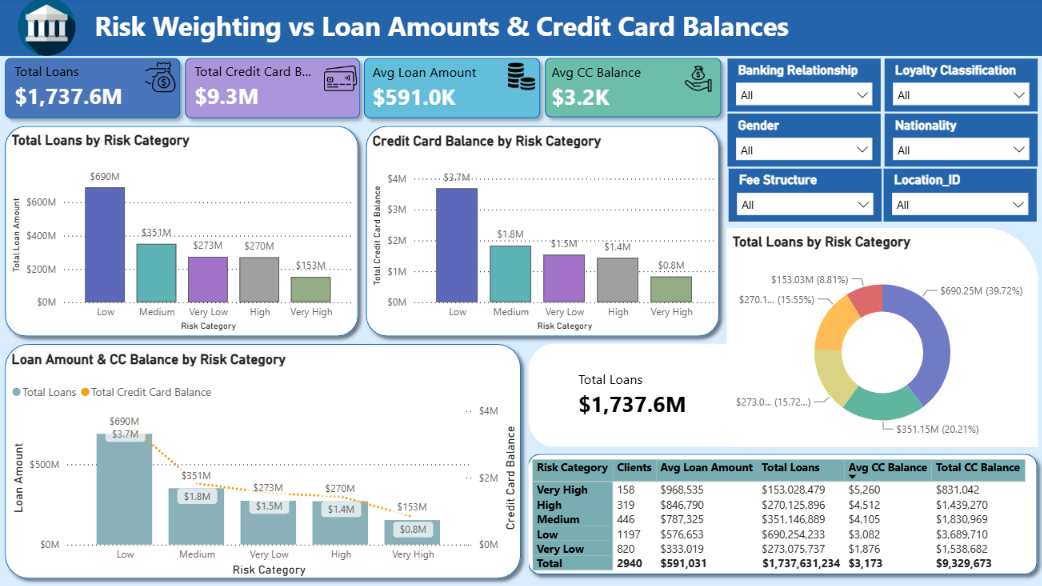

The page's visual inventory and layout, read from the dashboard file:
{"tool":"powerbi","page":{"name":"Page 2","canvas":[1280,720],"ordinal":1},"visuals":[{"type":"shape","box":[892,280.8,381.5,268.7],"z":0},{"type":"shape","box":[639.5,549.5,640.8,165.2],"z":1000},{"type":"shape","box":[0,415.1,648.9,305],"z":2000},{"type":"shape","box":[442,147.8,450,275.4],"z":3000},{"type":"shape","box":[0,0,1280,71.2],"z":4000},{"type":"textbox","box":[11,7.3,848.6,57.5],"z":5000},{"type":"textbox","box":[113.7,7.3,934.2,57.5],"z":6000},{"type":"slicer","fields":{"Values":["Clean_Banking_Clients.Banking_Relationship"]},"box":[892.8,74.6,187.1,64.8],"z":7000},{"type":"shape","box":[0,147.8,450,275.4],"z":8000},{"type":"slicer","fields":{"Values":["Clean_Banking_Clients.Loyalty_Classification"]},"box":[1084.1,75.2,187,65.1],"z":9000},{"type":"slicer","fields":{"Values":["Clean_Banking_Clients.Gender"]},"box":[892.8,141.8,187.1,64.8],"z":10000},{"type":"slicer","fields":{"Values":["Clean_Banking_Clients.Nationality"]},"box":[1084.1,141.5,187,65.1],"z":11000},{"type":"slicer","fields":{"Values":["Clean_Banking_Clients.Fee_Structure"]},"box":[894,209.1,187.1,64.8],"z":12000},{"type":"shape","box":[0,64.8,232.3,91.7],"z":13000},{"type":"cardVisual","fields":{"Data":["Measures (2).Total Loans"]},"box":[3.7,53.8,232.3,106.4],"z":14000},{"type":"shape","box":[220.1,64.8,232.3,91.7],"z":15000},{"type":"cardVisual","fields":{"Data":["Measures (2).Total Credit Card Balance"]},"box":[223.8,59.9,233.6,95.4],"z":16000},{"type":"shape","box":[439,64.8,233.6,91.7],"z":17000},{"type":"shape","box":[660.3,64.8,233.6,90.5],"z":18000},{"type":"cardVisual","fields":{"Data":["Measures (2).Avg Loan Amount"]},"box":[441.4,61.1,233.6,95.4],"z":19000},{"type":"cardVisual","fields":{"Data":["Measures (2).Avg CC Balance"]},"box":[660.3,61.1,233.6,95.4],"z":20000},{"type":"clusteredColumnChart","fields":{"Category":["Clean_Banking_Clients.Risk Category"],"Y":["Measures (2).Total Loans"]},"box":[12.1,163.9,427.2,248.5],"z":21000},{"type":"clusteredColumnChart","title":"Credit Card Balance by Risk Category","fields":{"Category":["Clean_Banking_Clients.Risk Category"],"Y":["Measures (2).Total Credit Card Balance"]},"box":[454.1,165.2,428.5,247.2],"z":22000},{"type":"lineClusteredColumnComboChart","title":"Loan Amount & CC Balance by Risk Category","fields":{"Category":["Clean_Banking_Clients.Risk Category"],"Y":["Measures (2).Total Loans"],"Y2":["Measures (2).Total Credit Card Balance"]},"box":[12.1,431.2,627.4,280.8],"z":23000},{"type":"donutChart","fields":{"Category":["Clean_Banking_Clients.Risk Category"],"Y":["Measures (2).Total Loans"]},"box":[893.9,288.6,376.6,260.5],"z":24000},{"type":"shape","box":[648.9,423.2,252.6,126.3],"z":25000},{"type":"cardVisual","fields":{"Data":["Measures (2).Total Loans"]},"box":[681.1,430.4,194.4,106.4],"z":26000},{"type":"slicer","fields":{"Values":["Clean_Banking_Clients.Location_ID"]},"box":[1083.7,209.6,187.1,64.8],"z":27000},{"type":"pivotTable","fields":{"Rows":["Clean_Banking_Clients.Risk Category"],"Values":["Measures (2).Client Count","Measures (2).Avg Loan Amount","Measures (2).Total Loans","Measures (2).Avg CC Balance","Measures (2).Total Credit Card Balance"]},"box":[649.9,560.2,630.1,157.2],"z":28000},{"type":"image","box":[0,0,119.8,70.9],"z":29000}]}

Visuals, with their boxes in screenshot pixels (x1, y1, x2, y2), scaled from the page's 1280x720 canvas onto the 1042x586 screenshot:
shape: crop(726, 229, 1037, 447)
shape: crop(521, 447, 1041, 582)
shape: crop(0, 338, 528, 585)
shape: crop(360, 120, 726, 344)
shape: crop(0, 0, 1041, 58)
textbox: crop(9, 6, 700, 53)
textbox: crop(93, 6, 853, 53)
slicer - Clean_Banking_Clients.Banking_Relationship: crop(727, 61, 879, 113)
shape: crop(0, 120, 366, 344)
slicer - Clean_Banking_Clients.Loyalty_Classification: crop(883, 61, 1035, 114)
slicer - Clean_Banking_Clients.Gender: crop(727, 115, 879, 168)
slicer - Clean_Banking_Clients.Nationality: crop(883, 115, 1035, 168)
slicer - Clean_Banking_Clients.Fee_Structure: crop(728, 170, 880, 223)
shape: crop(0, 53, 189, 127)
cardVisual - Measures (2).Total Loans: crop(3, 44, 192, 130)
shape: crop(179, 53, 368, 127)
cardVisual - Measures (2).Total Credit Card Balance: crop(182, 49, 372, 126)
shape: crop(357, 53, 548, 127)
shape: crop(538, 53, 728, 126)
cardVisual - Measures (2).Avg Loan Amount: crop(359, 50, 549, 127)
cardVisual - Measures (2).Avg CC Balance: crop(538, 50, 728, 127)
clusteredColumnChart - Clean_Banking_Clients.Risk Category x Measures (2).Total Loans: crop(10, 133, 358, 336)
"Credit Card Balance by Risk Category" clusteredColumnChart: crop(370, 134, 718, 336)
"Loan Amount & CC Balance by Risk Category" lineClusteredColumnComboChart: crop(10, 351, 521, 579)
donutChart - Clean_Banking_Clients.Risk Category x Measures (2).Total Loans: crop(728, 235, 1034, 447)
shape: crop(528, 344, 734, 447)
cardVisual - Measures (2).Total Loans: crop(554, 350, 713, 437)
slicer - Clean_Banking_Clients.Location_ID: crop(882, 171, 1035, 223)
pivotTable - Clean_Banking_Clients.Risk Category x Measures (2).Client Count: crop(529, 456, 1041, 584)
image: crop(0, 0, 98, 58)
